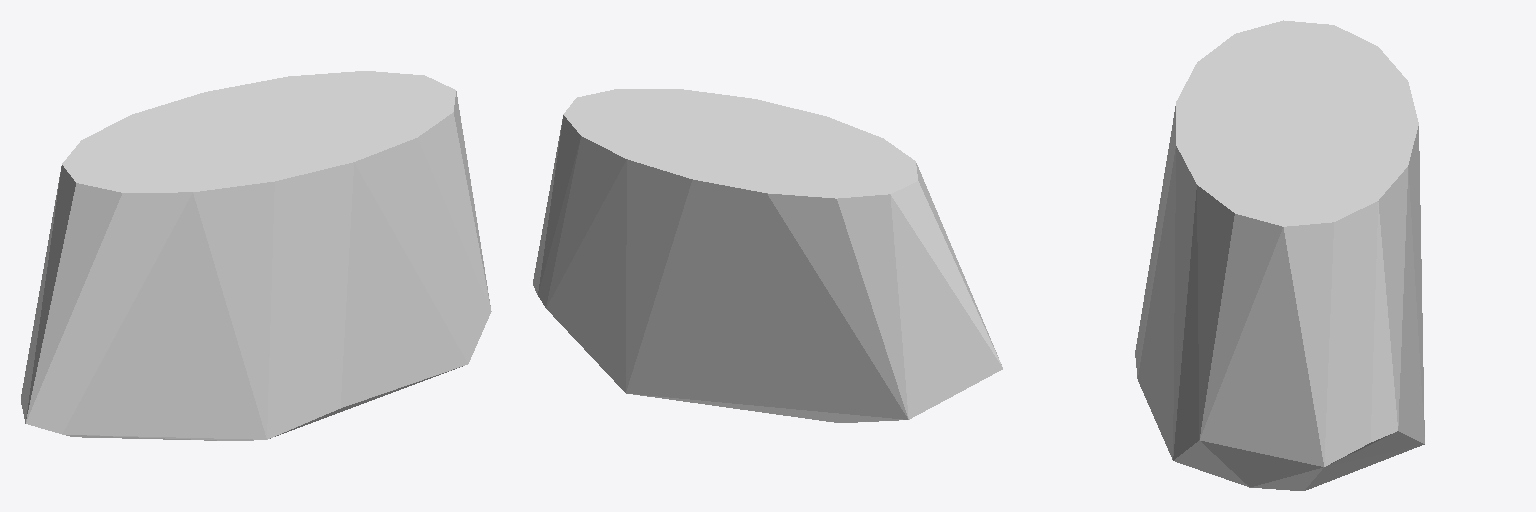
URDF robot description (talos_rleg_rom):
<?xml version="1.0" ?>
<robot name="talos_rleg_rom" xmlns:controller="http://playerstage.sourceforge.net/gazebo/xmlschema/#controller" xmlns:interface="http://playerstage.sourceforge.net/gazebo/xmlschema/#interface" xmlns:sensor="http://playerstage.sourceforge.net/gazebo/xmlschema/#sensor" xmlns:xacro="http://ros.org/wiki/xacro">

  <link name="torso_2_link">
    <inertial>
      <origin rpy="0.00000 0.00000 0.00000" xyz="-0.04551 -0.00053 0.16386"/>
      <mass value="17.55011"/>
      <inertia ixx="0.37376900000" ixy="0.00063900000" ixz="0.01219600000" iyy="0.24790200000" iyz="0.00000700000" izz="0.28140400000"/>
    </inertial>
  </link>
  <!--************************-->
  <!--        TORSO_1  (PAN)  -->
  <!--************************-->
  <link name="torso_1_link">
    <inertial>
      <origin rpy="0.00000 0.00000 0.00000" xyz="0.00013 -0.00001 -0.01306"/>
      <mass value="3.02433"/>
      <inertia ixx="0.00759400000" ixy="0.00000100000" ixz="-0.00004800000" iyy="0.00429200000" iyz="-0.00000100000" izz="0.00749700000"/>
    </inertial>
  </link>
  <joint name="torso_1_joint" type="revolute">
    <parent link="base_link"/>
    <child link="torso_1_link"/>
    <origin rpy="0.0 0.0 0.0" xyz="0.0 0.0 0.0722"/>
    <axis xyz="0 0 1"/>
    <limit effort="78.0" lower="-1.25663706144" upper="1.25663706144" velocity="5.4"/>
  </joint>
  <!--************************-->
  <!--        BASE_LINK       -->
  <!--************************-->
  <link name="base_link">
    <inertial>
      <origin rpy="0.00000 0.00000 0.00000" xyz="-0.08222 0.00838 -0.07261"/>
      <mass value="13.53810"/>
      <inertia ixx="0.06989000000" ixy="-0.00011700000" ixz="0.00023000000" iyy="0.03998200000" iyz="-0.00132500000" izz="0.08234500000"/>
    </inertial>
    <visual>
      <origin rpy="0 0 0" xyz="0 0 0"/>
      <geometry>
        <mesh filename="package://talos-rbprm/meshes/talos_rleg_rom_reduced.dae" scale="1 1 1"/>
      </geometry>
      <material name="LightGrey"/>
    </visual>
    <collision>
      <origin rpy="0 0 0" xyz="0 0 0"/>
      <geometry>
        <mesh filename="package://talos-rbprm/meshes/talos_rleg_rom_reduced.stl" scale="1 1 1"/>
      </geometry>
    </collision>
  </link>
  <joint name="torso_2_joint" type="revolute">
    <parent link="torso_1_link"/>
    <child link="torso_2_link"/>
    <origin rpy="0.0 0.0 0.0" xyz="0.0 0.0 0.0"/>
    <axis xyz="0 1 0"/>
    <limit effort="78.0" lower="-0.226892802759" upper="0.733038285838" velocity="5.4"/>
    <dynamics damping="1.0" friction="1.0"/>
    <!-- <safety_controller k_position="20"
                          k_velocity="20"
                          soft_lower_limit="${-75.00000 * deg_to_rad + eps_radians}"
                          soft_upper_limit="${75.00000 * deg_to_rad - eps_radians}" /> -->
  </joint>
  <!-- define global properties -->
  <!-- <xacro:property name="M_PI" value="3.1415926535897931" /> -->
  <!-- Materials for visualization -->
  <material name="Blue">
    <color rgba="0.0 0.0 0.8 1.0"/>
  </material>
  <material name="Green">
    <color rgba="0.0 0.8 0.0 1.0"/>
  </material>
  <material name="Grey">
    <color rgba="0.7 0.7 0.7 1.0"/>
  </material>
  <material name="LightGrey">
    <color rgba="0.9 0.9 0.9 1.0"/>
  </material>
  <material name="DarkGrey">
    <color rgba="0.2 0.2 0.2 1.0"/>
  </material>
  <material name="Red">
    <color rgba="0.8 0.0 0.0 1.0"/>
  </material>
  <material name="White">
    <color rgba="1.0 1.0 1.0 1.0"/>
  </material>
  <material name="Orange">
    <color rgba="1.0 0.5 0.0 1.0"/>
  </material>
</robot>

--- What the picture shows (computed from the rendered views, not written in the file) ---
Views: 3 orthographic renders of the robot side by side, from view 1: azimuth 30°, elevation 25°; view 2: azimuth 150°, elevation 25°; view 3: azimuth 270°, elevation 25°.
Robot: talos_rleg_rom — 3 links, 2 joints (2 revolute); root link base_link; default pose: every joint at zero.
Links seen in each view (by area): view 1: base_link; view 2: base_link; view 3: base_link.
Boxes of the visible links, x1,y1,x2,y2 form: base_link: (21,71,491,440); base_link: (533,89,1002,422); base_link: (1135,20,1424,490).
Bounding box of the posed robot: 0.7587 × 0.3543 × 0.4192 m (x, y, z).
Meshes: 1 distinct files referenced, 1 mesh visuals loaded (1 Collada DAE).